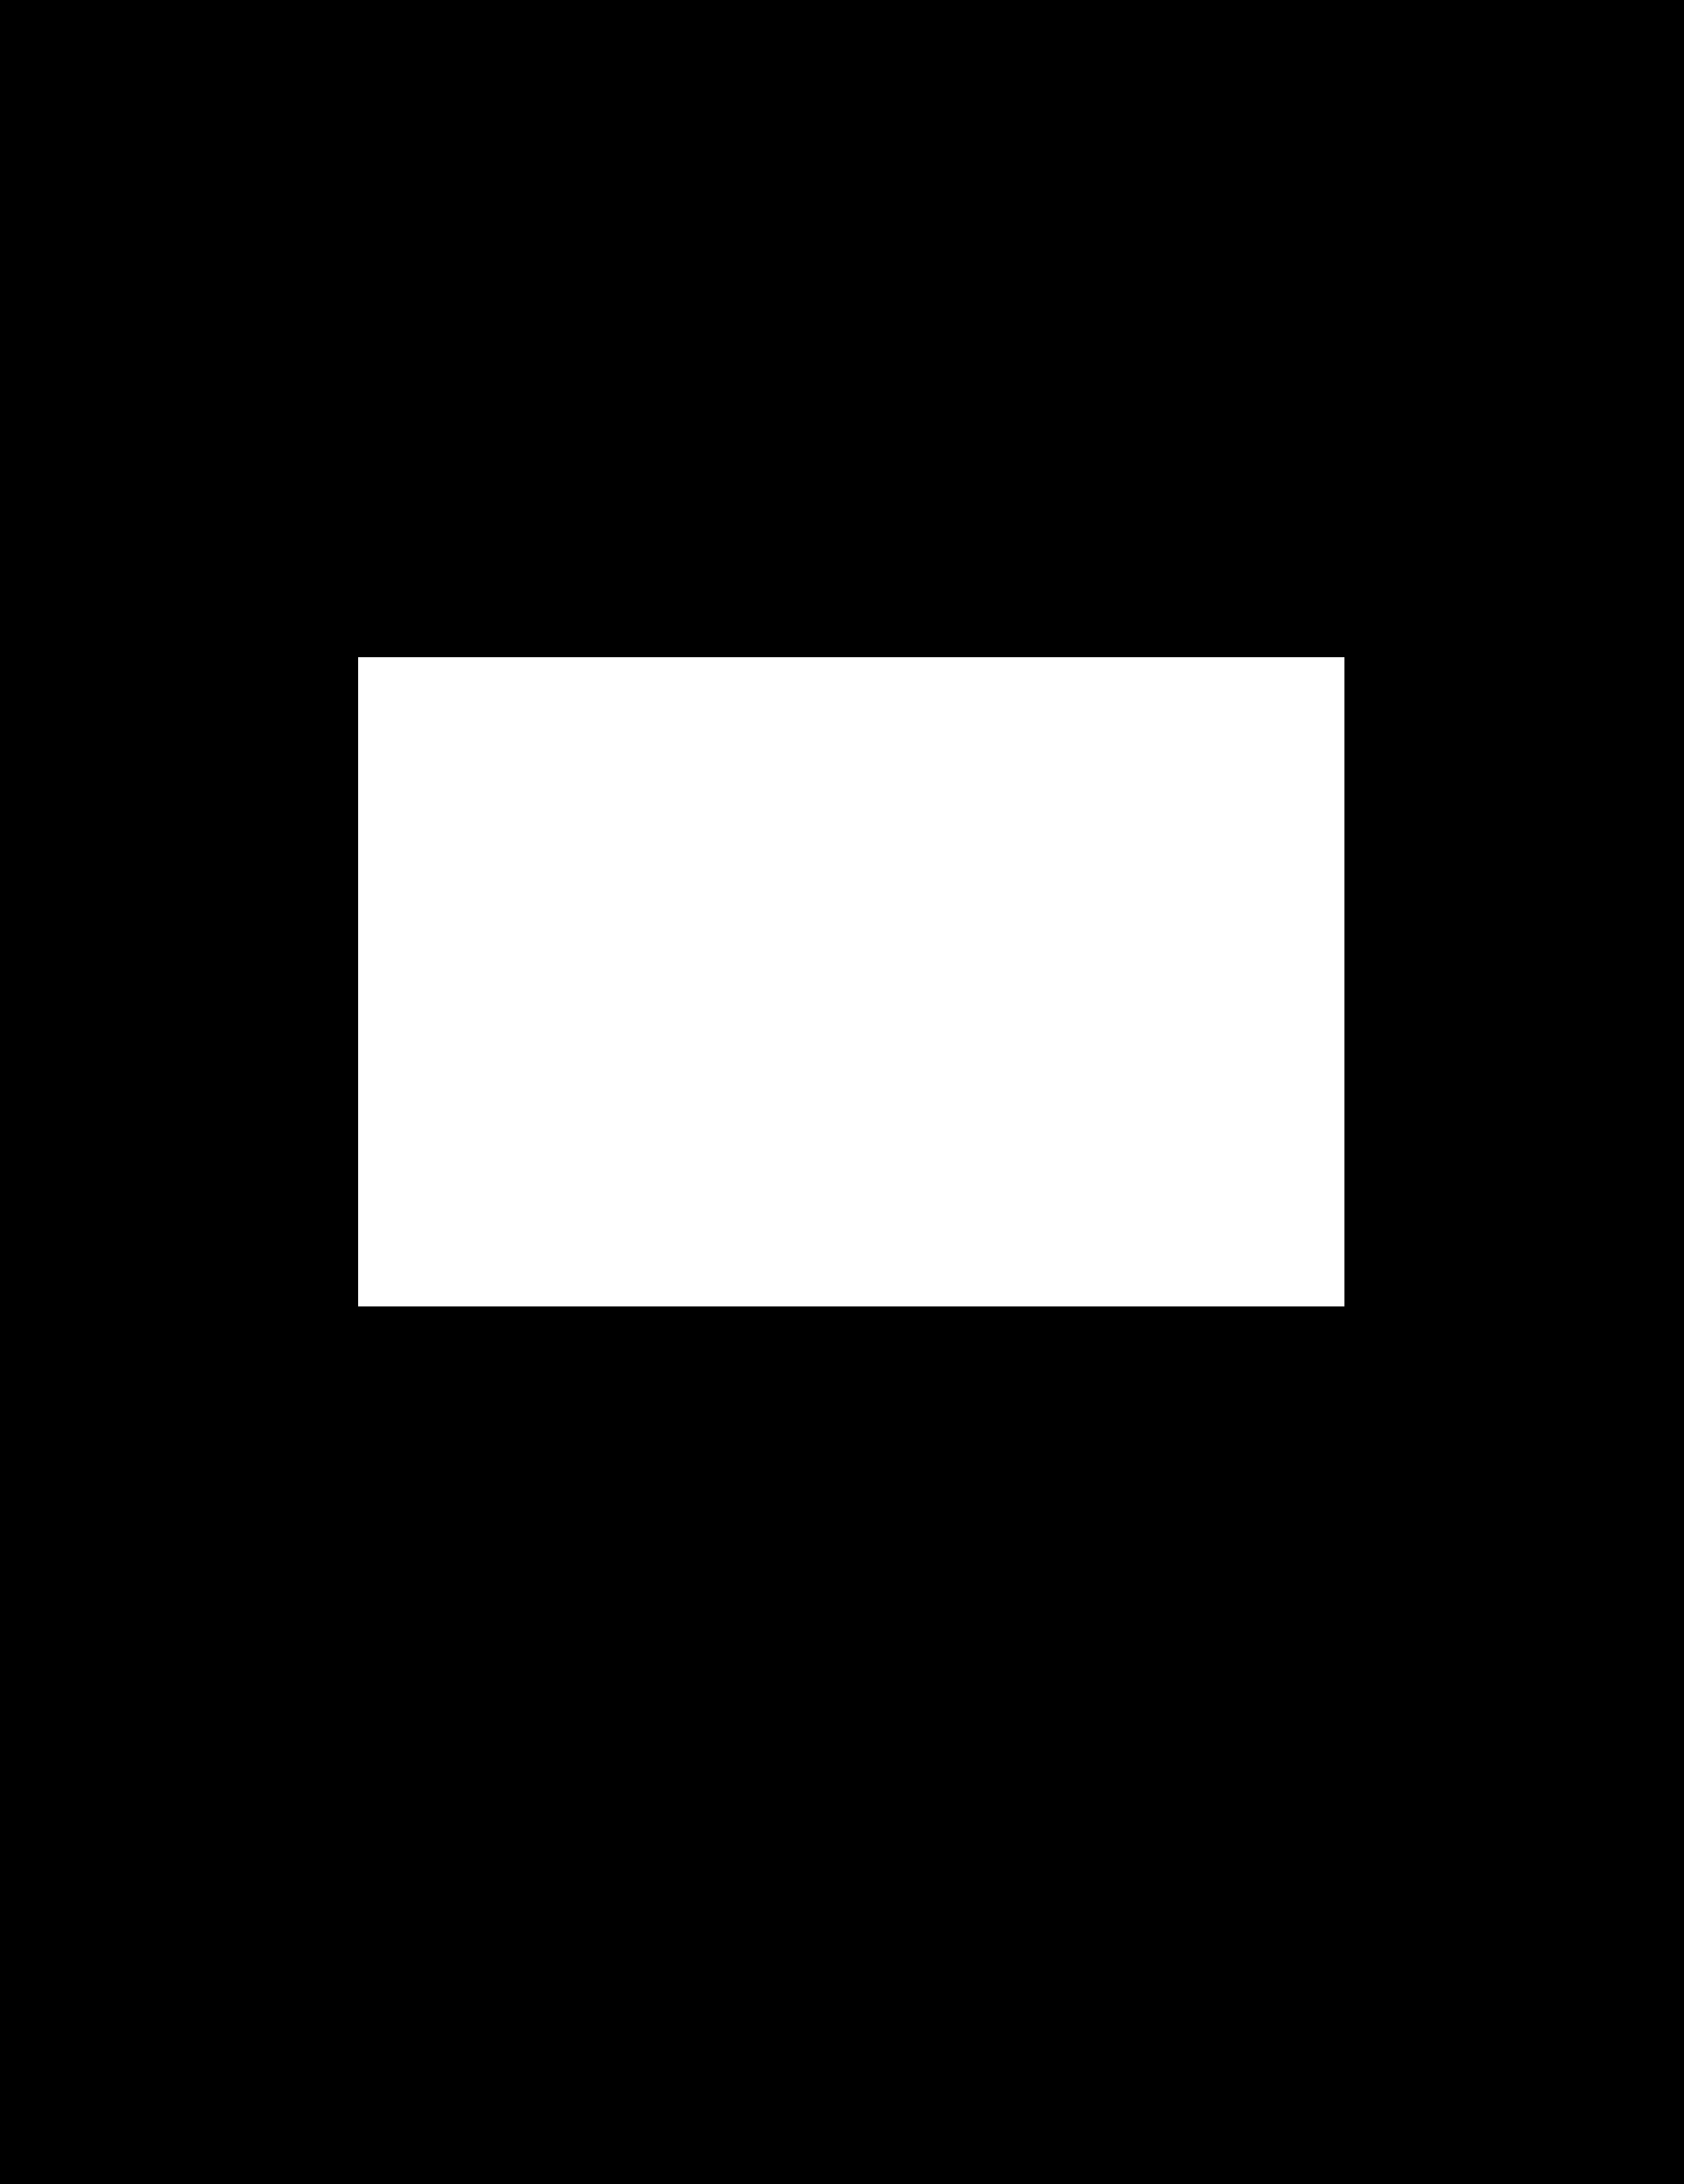table: (357, 658, 1344, 1305)
